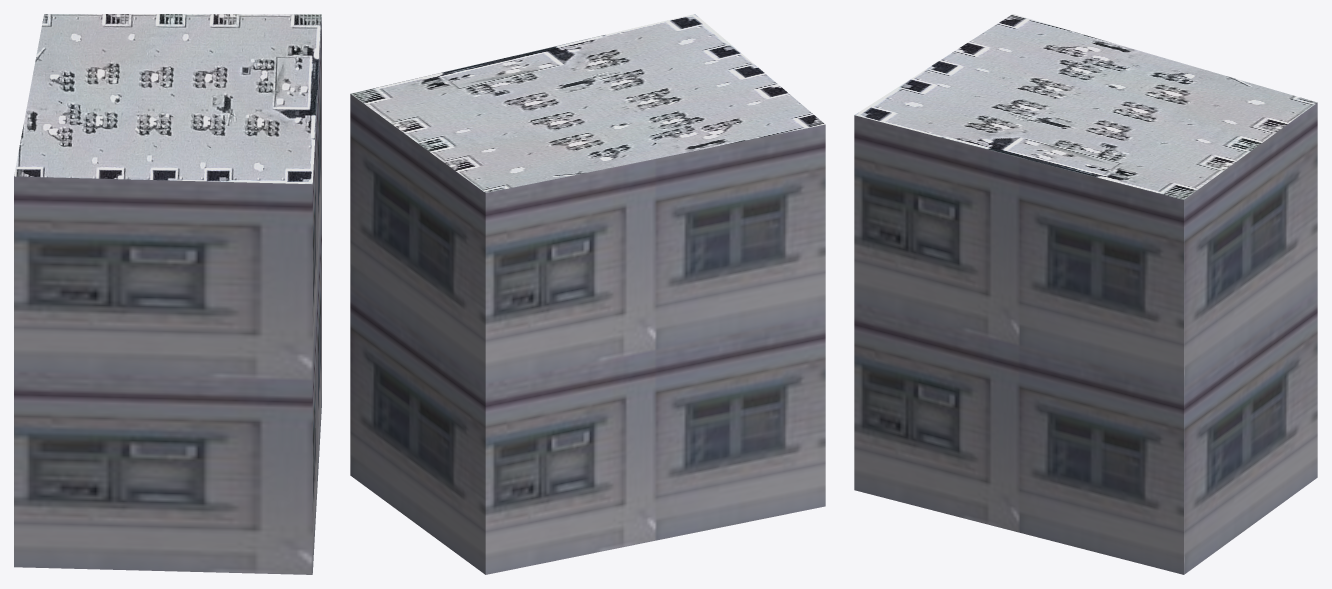
File: ResTex__3860.fbx
3 renders of one model, left to right at view 1: azimuth 30°, elevation 25°; view 2: azimuth 150°, elevation 25°; view 3: azimuth 270°, elevation 25°, orthographic. The views are drawn at different scales.
Visible parts, largest first — view 1: CityEngineMaterial_1_m, CityEngineMaterial_m; view 2: CityEngineMaterial_1_m, CityEngineMaterial_m; view 3: CityEngineMaterial_1_m, CityEngineMaterial_m.
Part boxes in pixels (x1=…): CityEngineMaterial_1_m: x1=14, y1=17, x2=321, y2=574; CityEngineMaterial_m: x1=14, y1=14, x2=321, y2=184; CityEngineMaterial_1_m: x1=350, y1=94, x2=825, y2=574; CityEngineMaterial_m: x1=351, y1=14, x2=825, y2=192; CityEngineMaterial_1_m: x1=854, y1=103, x2=1317, y2=574; CityEngineMaterial_m: x1=854, y1=14, x2=1317, y2=199.
Bounding box in the file's own units: 6.38 × 6 × 6.72.
Materials: 2 (2 with a texture image).
